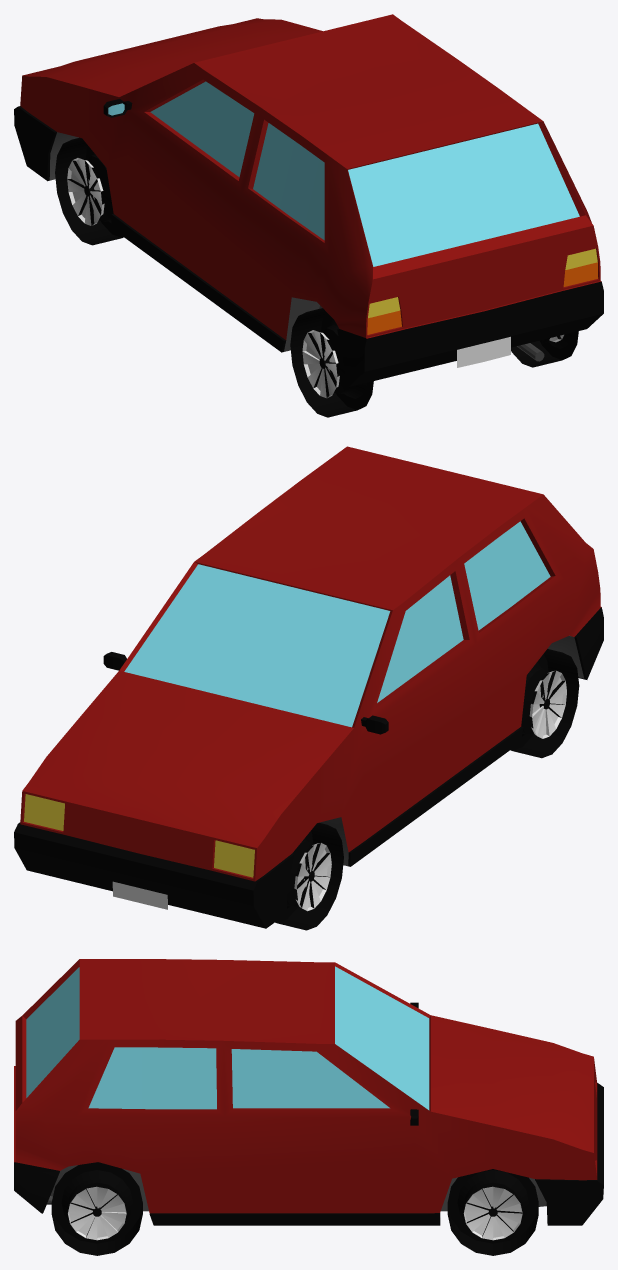
The model's file is fiatuno.glb.
3 views of the same model, one above another, from view 1: azimuth 30°, elevation 25°; view 2: azimuth 150°, elevation 25°; view 3: azimuth 270°, elevation 25° (orthographic). The views are drawn at different scales.
Parts seen in each view (by area): view 1: Cube; view 2: Cube; view 3: Cube.
Part boxes in pixels (box(x1,y1,x2,y2)): Cube: box(14, 14, 603, 417); Cube: box(14, 446, 603, 930); Cube: box(14, 959, 603, 1255).
Bounding box in the file's own units: 1.73 × 1.45 × 3.73.
